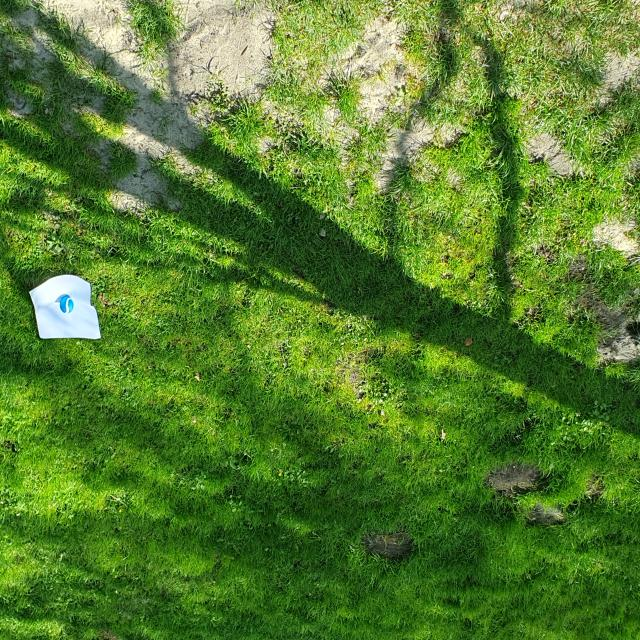blue: (60, 296, 74, 314)
